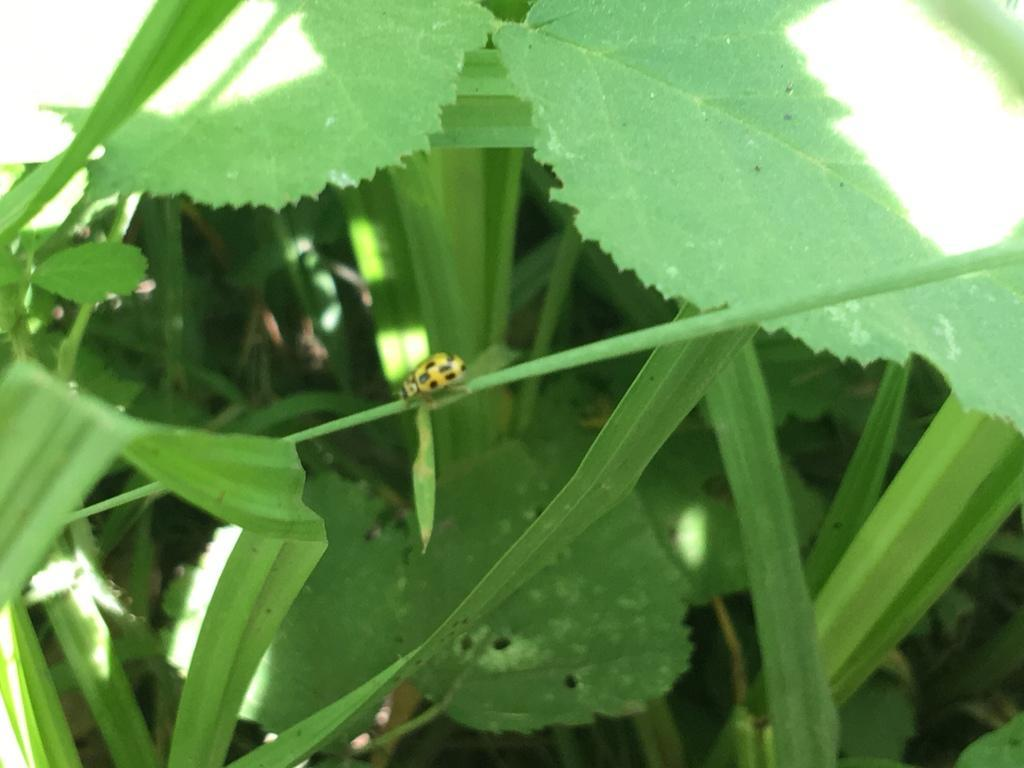ladybug: (391, 350, 474, 413)
